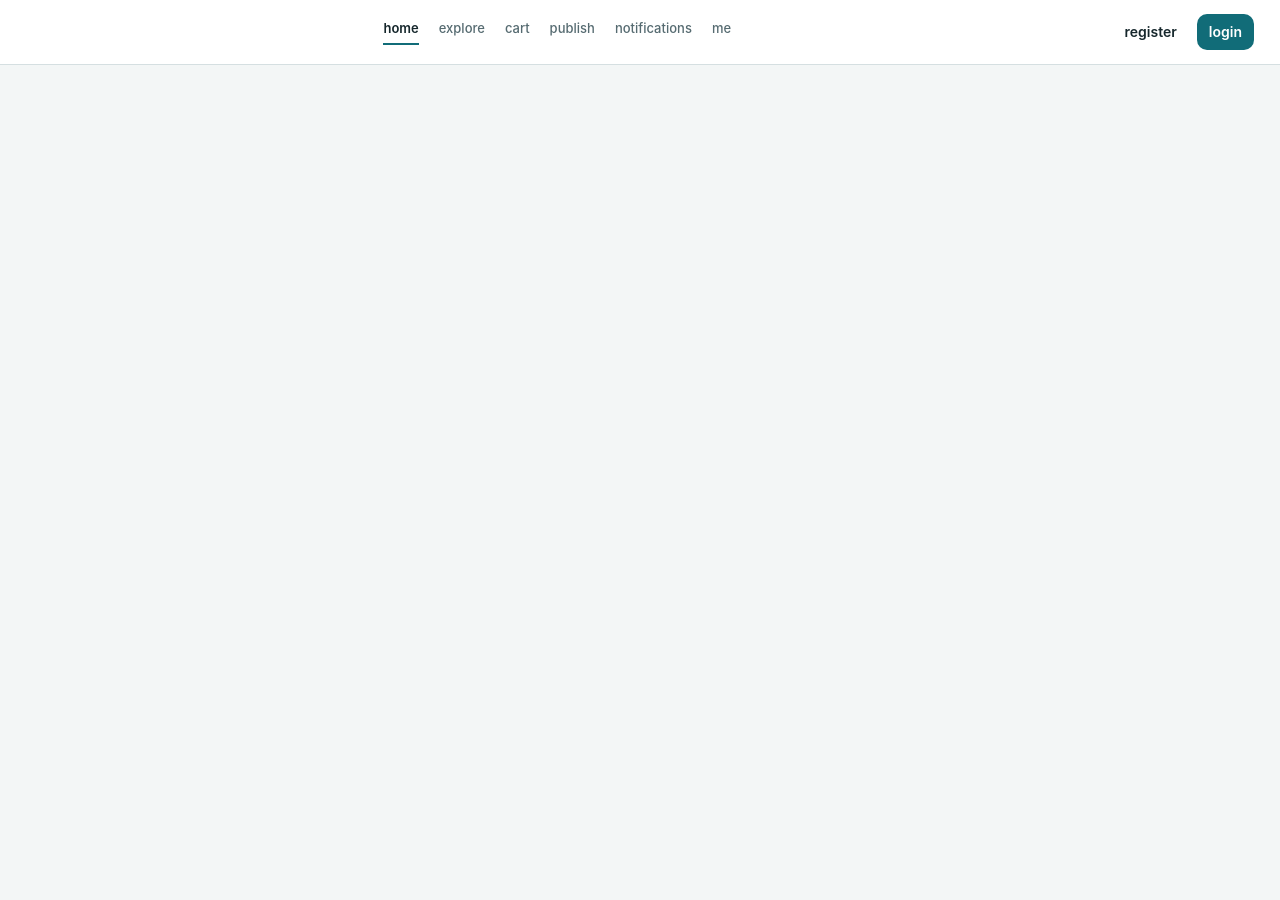
Test: keeps the TopNav dialog open and shows an error when the code is rejected
Click the button "login".
click(1225, 32)  # box [1197,14,1254,50]
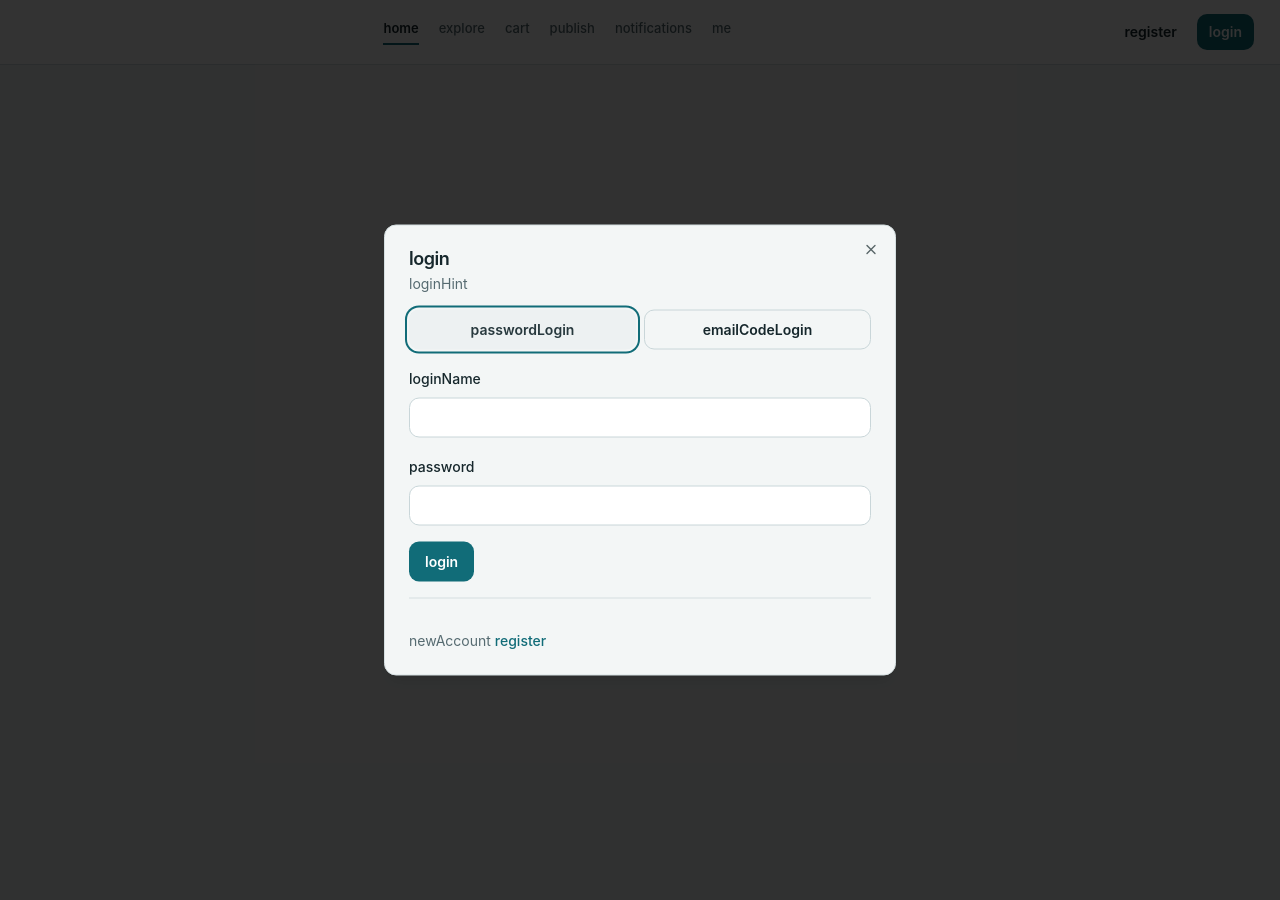
Click the button "emailCodeLogin".
click(758, 330)  # box [644,310,871,350]
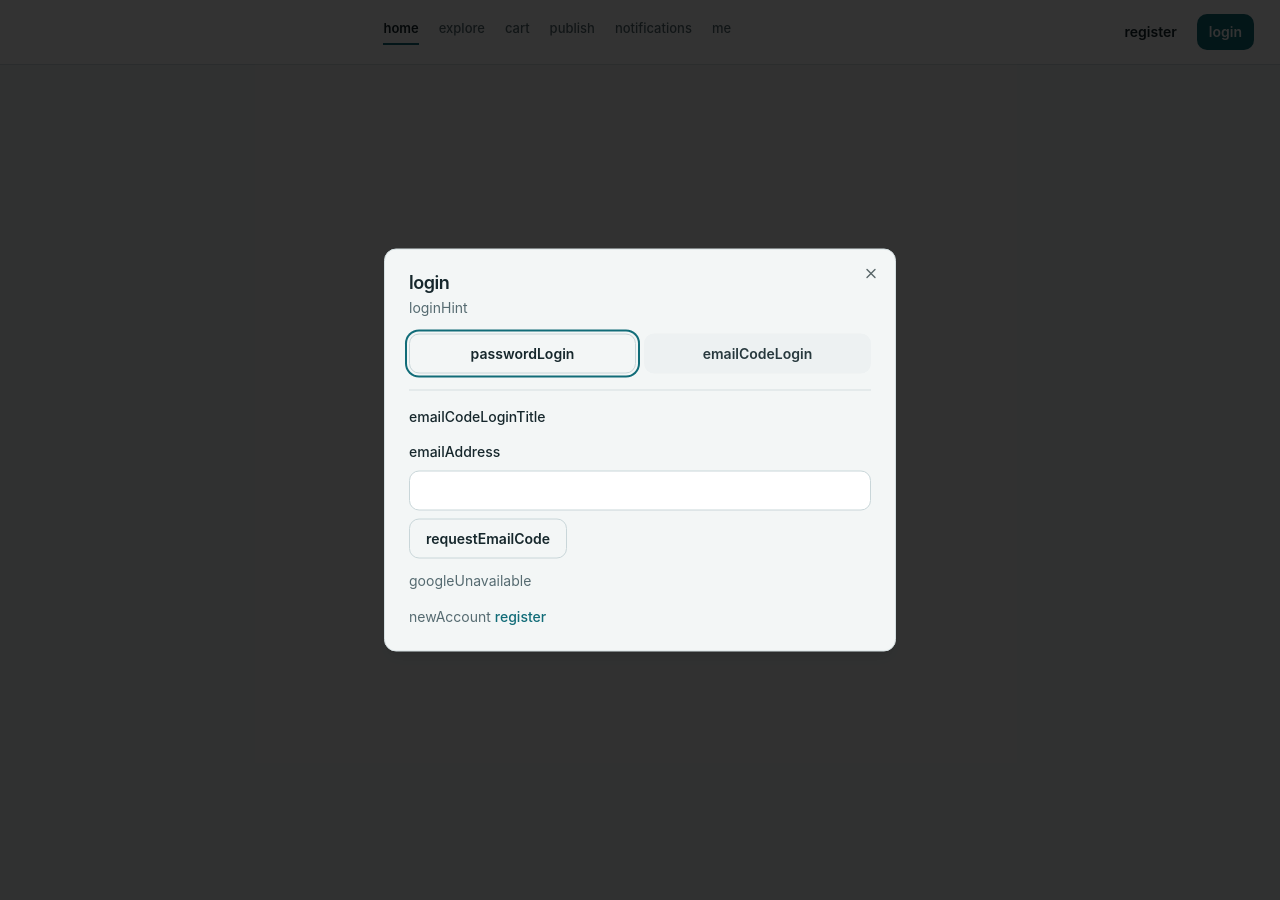
Type "user@gmail.com" into the field labelled "emailAddress".
click(640, 490); type("user@gmail.com")  # box [409,470,871,510]
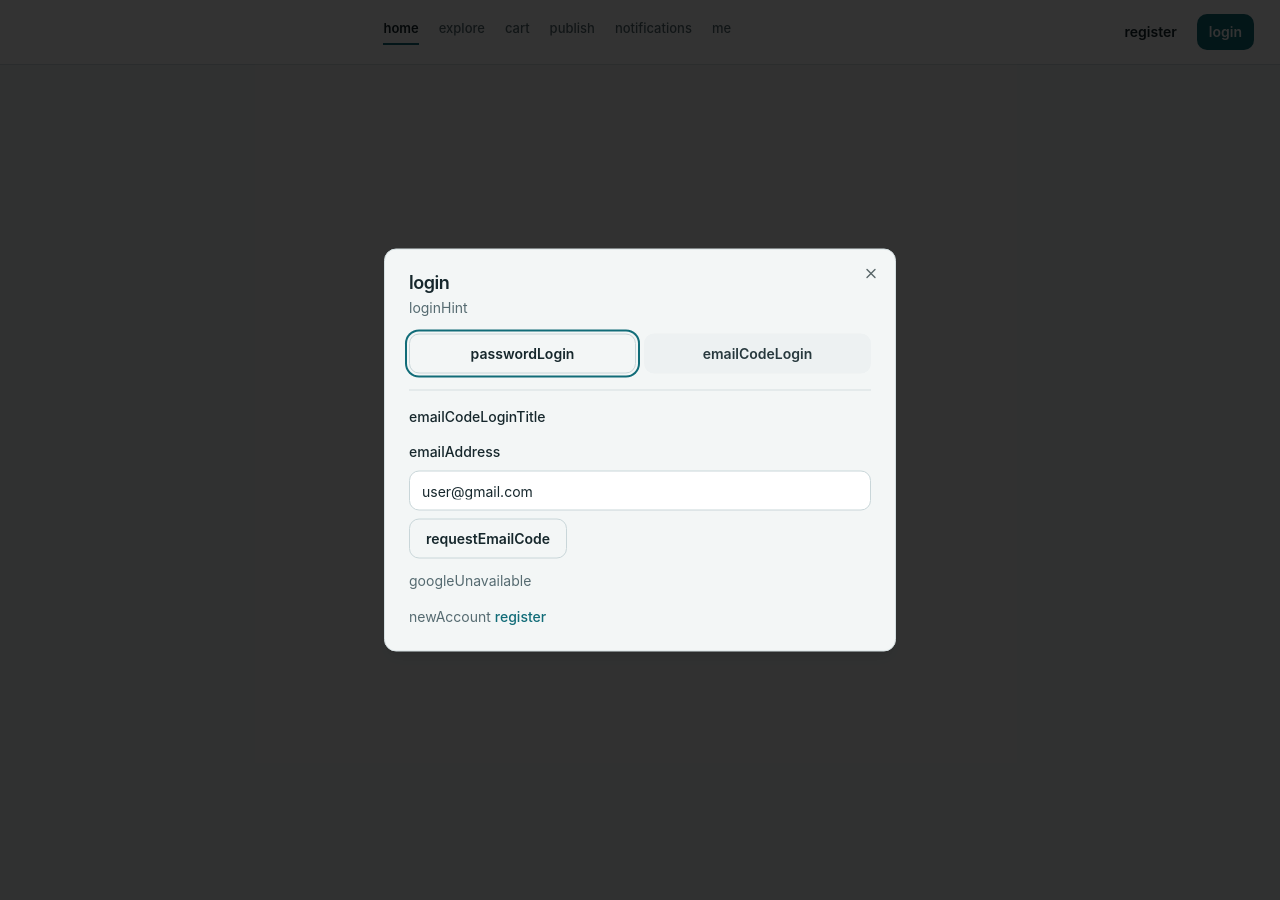
Click the button "requestEmailCode".
click(488, 538)  # box [409,518,567,558]
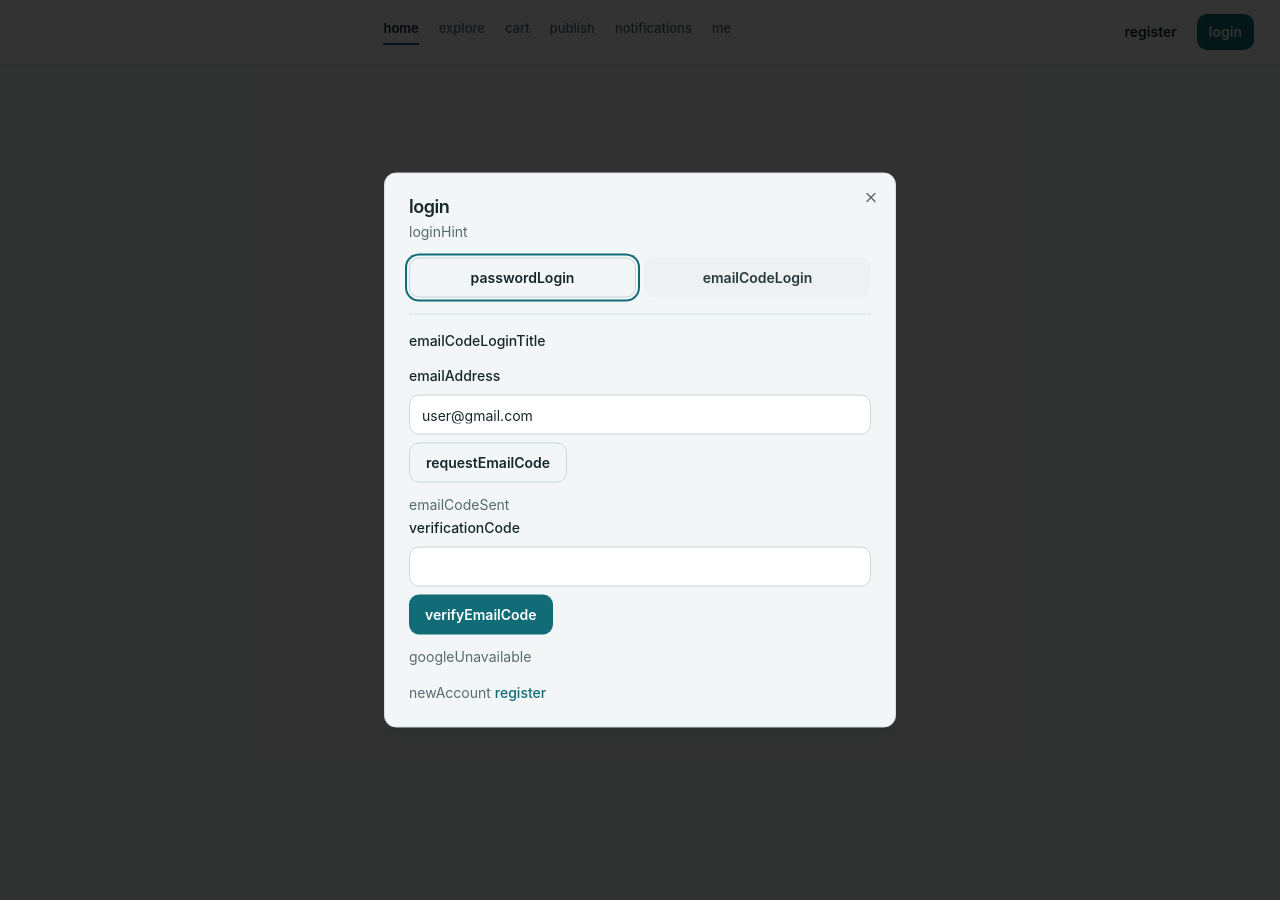
Type "123456" into the field labelled "verificationCode".
click(640, 566); type("123456")  # box [409,546,871,586]
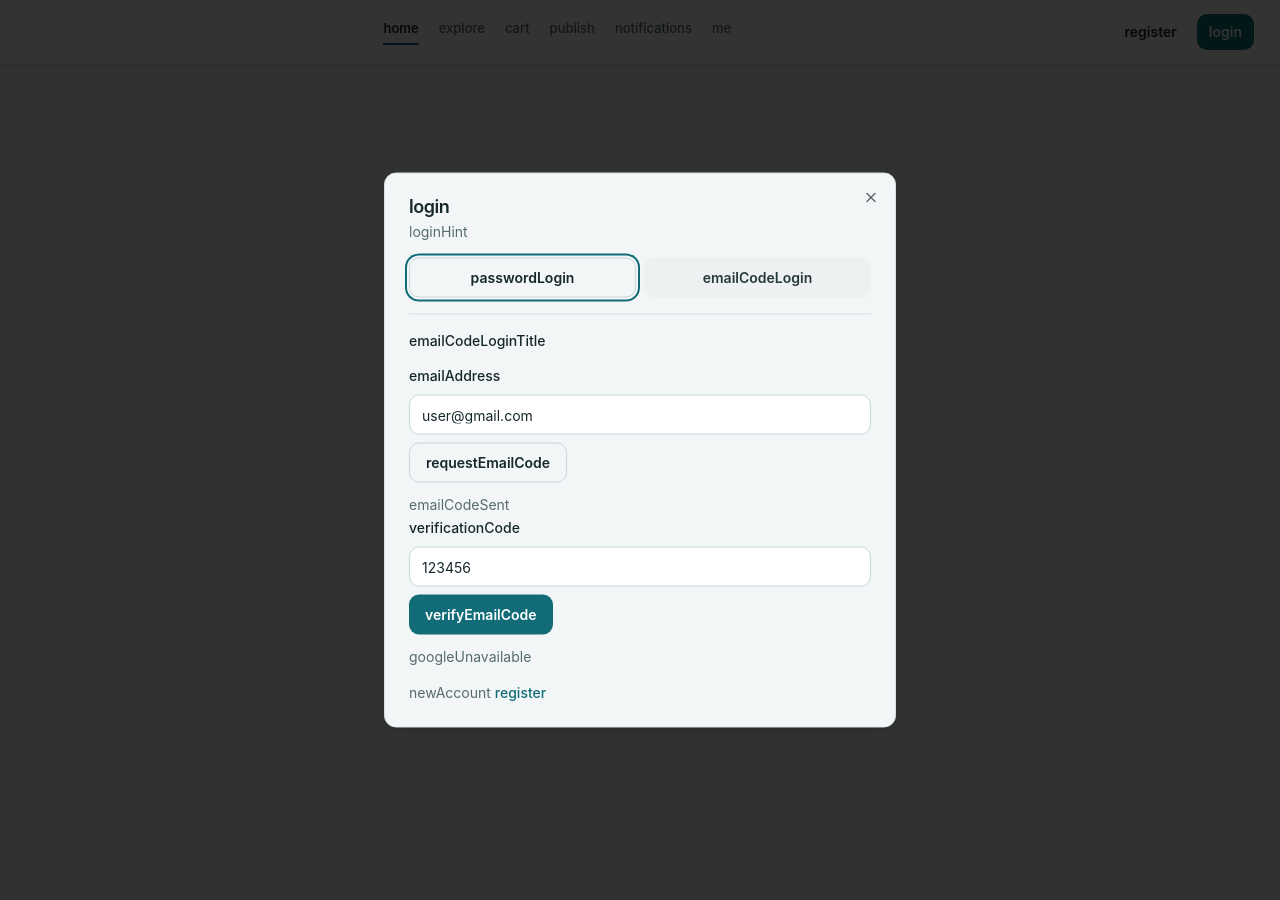
Click the button "verifyEmailCode".
click(481, 614)  # box [409,594,553,634]
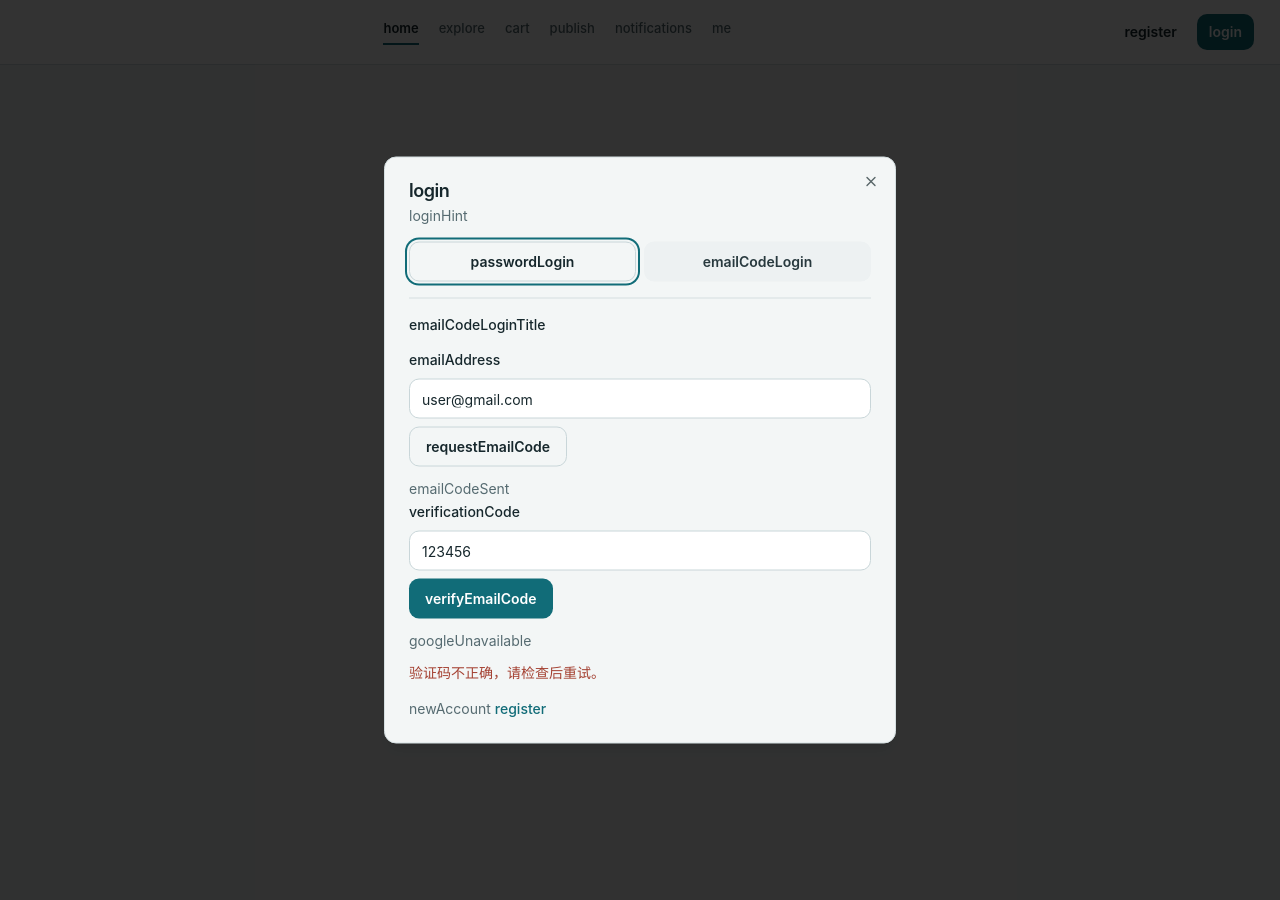
Expected: the dialog is shown, [384,156,896,744]
Expected: the message "验证码不正确，请检查后重试。" is shown, [409,664,605,680]
